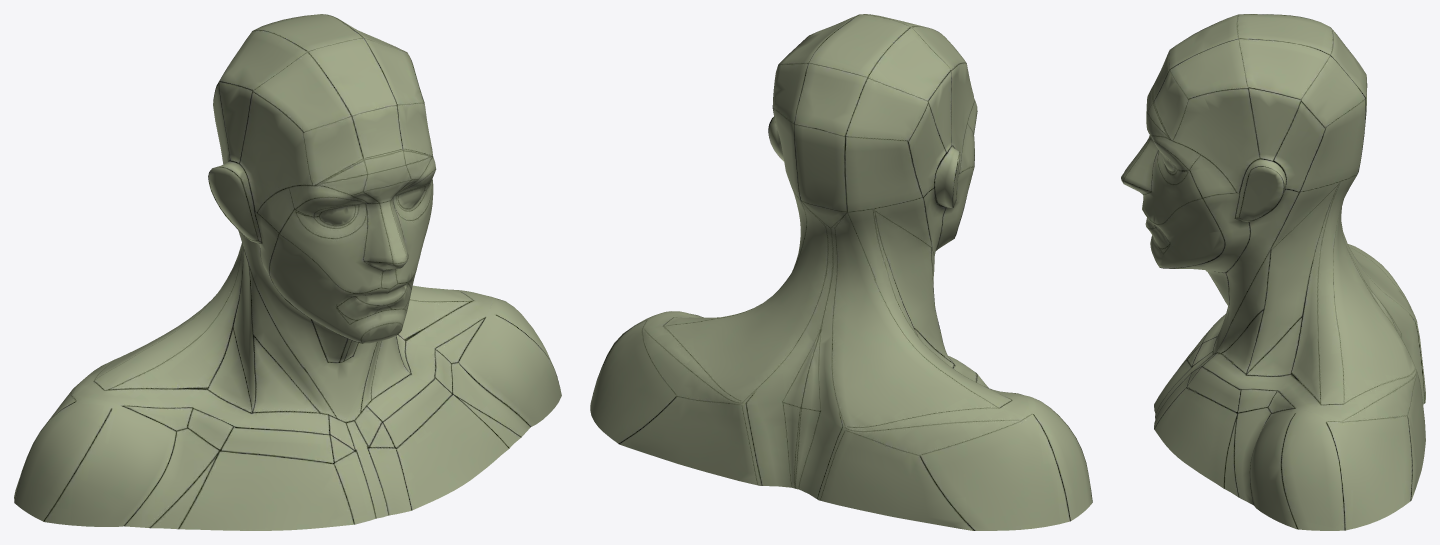
Rendered from 头部分面体_20260324201405_opt.glb.
3 renders of one model, left to right at view 1: azimuth 30°, elevation 25°; view 2: azimuth 150°, elevation 25°; view 3: azimuth 270°, elevation 25°, orthographic. The views are drawn at different scales.
Visible parts, largest first — view 1: LowPoH; view 2: LowPoH; view 3: LowPoH.
Boxes of the visible parts, x1,y1,x2,y2 form: LowPoH: (14,14,561,530); LowPoH: (590,14,1092,530); LowPoH: (1121,14,1425,530).
Size of the model in its own units: 0.4994 by 0.4 by 0.2821.
Materials: 2 (1 with a texture image).
